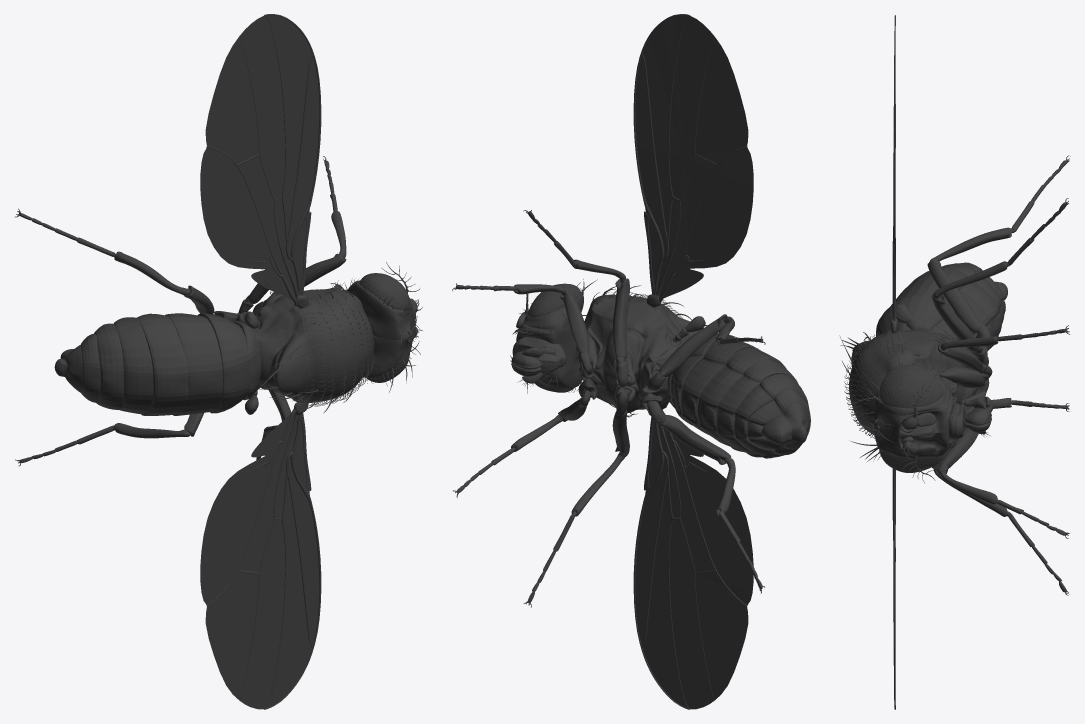
File: flybody.glb
The picture shows the model from 3 angles, left to right: view 1: azimuth 30°, elevation 25°; view 2: azimuth 150°, elevation 25°; view 3: azimuth 270°, elevation 25°; orthographic projection.
Visible parts, largest first — view 1: geom_wing_left_membrane, geom_wing_right_membrane, geom_thorax, geom_abdomen_3, geom_abdomen_4, geom_wing_right_brown, geom_wing_left_brown, geom_head, geom_abdomen_5, geom_abdomen_2, geom_abdomen_6, geom_thorax_black (+6 smaller); view 2: geom_wing_left_membrane, geom_wing_right_membrane, geom_thorax, geom_wing_left_brown, geom_wing_right_brown, geom_head, geom_abdomen_4_lower, geom_abdomen_5_lower, geom_abdomen_8, geom_femur_T3_right, geom_femur_T2_left, geom_femur_T3_left (+14 smaller); view 3: geom_thorax, geom_head, geom_head_red, geom_femur_T3_left, geom_thorax_black, geom_abdomen_2, geom_wing_left_brown, geom_femur_T2_left, geom_abdomen_4_lower, geom_femur_T1_right, geom_tibia_T3_left, geom_head_black (+14 smaller).
Boxes of the visible parts, x1,y1,x2,y2 form: geom_wing_left_membrane: (200,15,319,298); geom_wing_right_membrane: (200,414,319,709); geom_thorax: (237,287,374,403); geom_abdomen_3: (165,313,222,415); geom_abdomen_4: (137,313,188,415); geom_wing_right_brown: (207,402,321,709); geom_wing_left_brown: (206,14,321,308); geom_head: (347,280,415,377); geom_abdomen_5: (113,317,153,414); geom_abdomen_2: (198,313,248,413); geom_abdomen_6: (94,323,123,409); geom_thorax_black: (251,283,374,413); geom_wing_left_membrane: (635,15,753,297); geom_wing_right_membrane: (635,421,753,709); geom_thorax: (576,294,702,412); geom_wing_left_brown: (633,14,747,307); geom_wing_right_brown: (633,409,747,709); geom_head: (516,294,583,388); geom_abdomen_4_lower: (697,365,743,448); geom_abdomen_5_lower: (716,374,760,455); geom_abdomen_8: (762,403,809,449); geom_femur_T3_right: (647,401,731,464); geom_femur_T2_left: (613,278,629,387); geom_femur_T3_left: (647,314,727,390); geom_thorax: (849,327,973,435); geom_head: (873,374,953,457); geom_head_red: (879,365,943,472); geom_femur_T3_left: (927,259,990,348); geom_thorax_black: (839,327,953,438); geom_abdomen_2: (876,294,948,336); geom_wing_left_brown: (890,15,897,333); geom_femur_T2_left: (931,294,988,365); geom_abdomen_4_lower: (959,282,1001,349); geom_femur_T1_right: (937,396,993,474); geom_tibia_T3_left: (930,227,1012,261); geom_head_black: (848,362,959,461).
Bounding box in the file's own units: 0.3012 × 0.6116 × 0.1856.
1 material, 1 textured.
